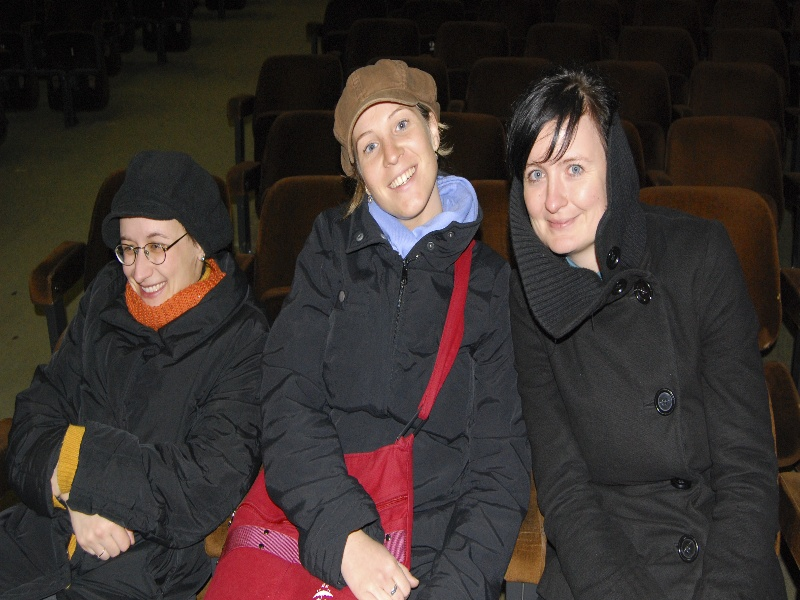face: (518, 119, 622, 255), (342, 100, 455, 218), (113, 215, 211, 311)
